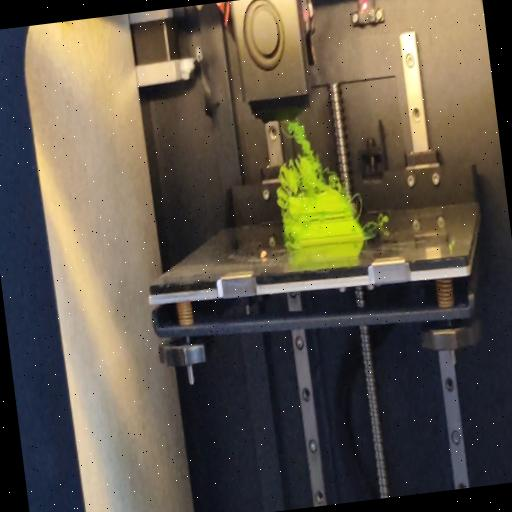spaghetti: (268, 116, 342, 200), (363, 214, 390, 232), (353, 191, 364, 215)
